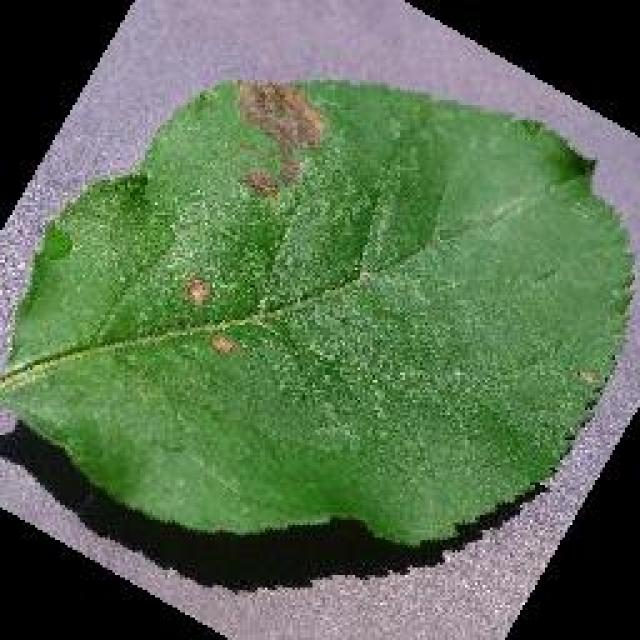Black_rot: (0, 72, 638, 550)
